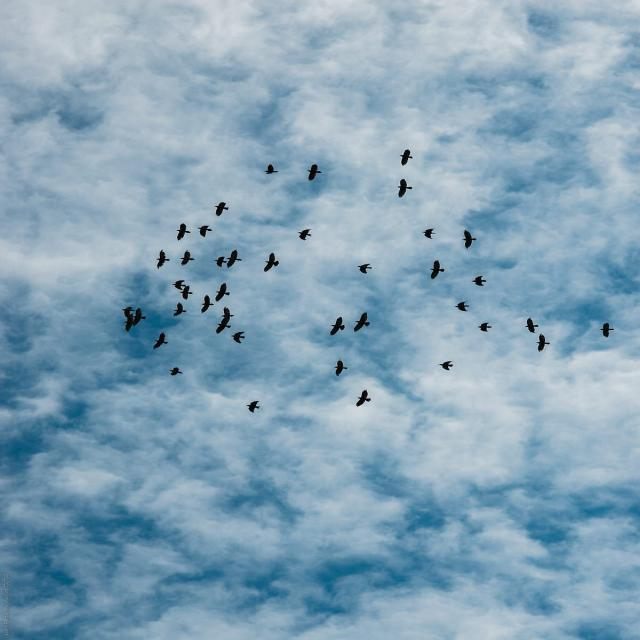bird: (351, 306, 378, 338), (295, 161, 330, 185), (207, 196, 243, 218), (242, 393, 271, 416), (348, 257, 381, 277), (227, 245, 248, 276), (422, 259, 447, 285), (455, 227, 480, 252), (390, 146, 416, 169), (165, 222, 194, 242), (395, 175, 419, 199), (261, 250, 284, 275), (133, 304, 155, 330), (328, 313, 347, 343), (192, 222, 219, 241), (290, 227, 320, 244), (330, 357, 351, 381), (518, 316, 542, 335), (469, 271, 490, 291), (257, 162, 283, 178), (151, 248, 169, 271), (433, 360, 464, 373), (215, 281, 233, 303), (198, 293, 216, 315), (420, 221, 439, 241), (179, 249, 198, 269), (534, 334, 553, 354), (153, 332, 171, 351), (167, 363, 185, 379), (180, 284, 193, 304), (454, 300, 471, 315), (215, 253, 227, 271), (171, 277, 185, 292), (476, 321, 491, 334)
